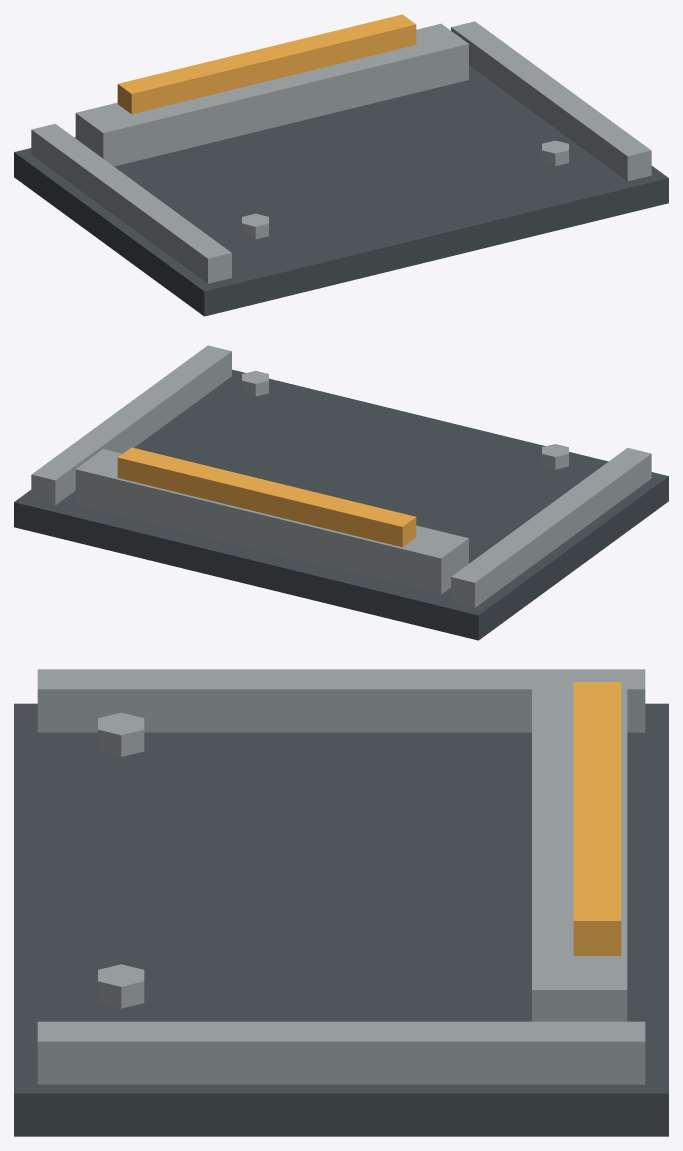
The model's file is lab_document_clamp.glb.
The picture shows the model from 3 angles, top to bottom: view 1: azimuth 30°, elevation 25°; view 2: azimuth 150°, elevation 25°; view 3: azimuth 270°, elevation 25°; orthographic projection. The views are drawn at different scales.
Parts seen in each view (by area): view 1: lab_document_clamp; view 2: lab_document_clamp; view 3: lab_document_clamp.
Part boxes in pixels (x1=…): lab_document_clamp: x1=14, y1=14, x2=668, y2=316; lab_document_clamp: x1=14, y1=345, x2=668, y2=640; lab_document_clamp: x1=14, y1=669, x2=668, y2=1136.
Bounding box in the file's own units: 1.55 × 0.26 × 1.1.
